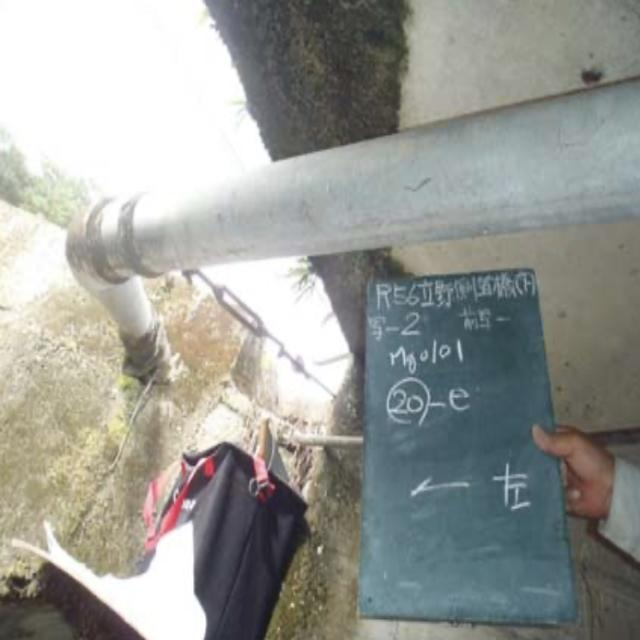freelime: (54, 276, 253, 563)
